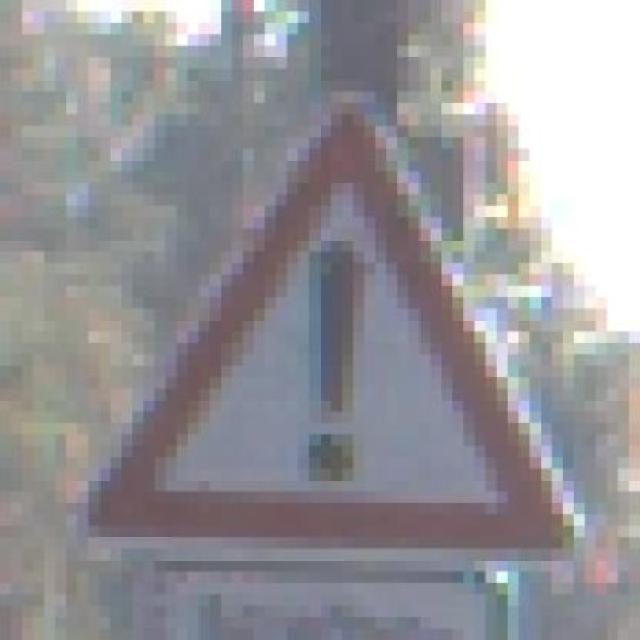Attention Please-: (54, 69, 586, 572)
